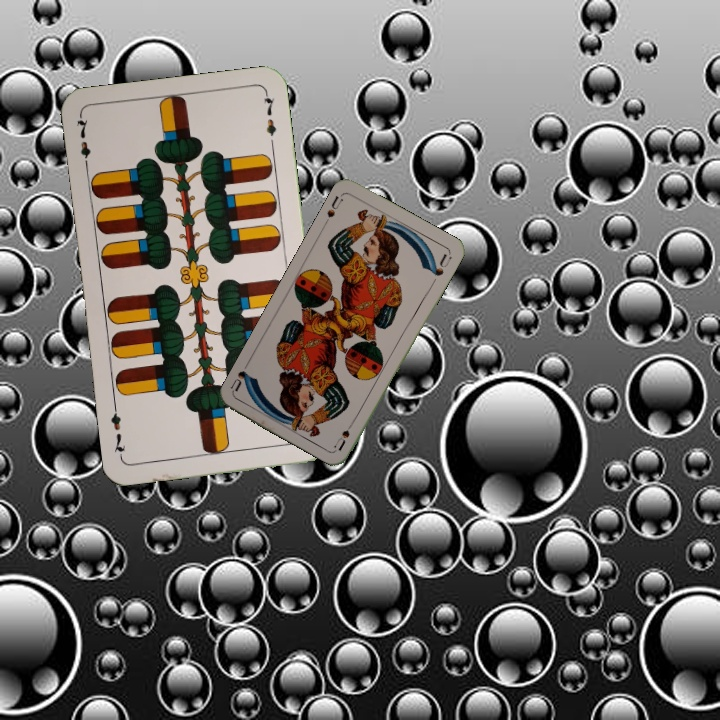E7: (72, 113, 93, 172)
SU: (330, 414, 358, 453), (323, 190, 345, 220)
